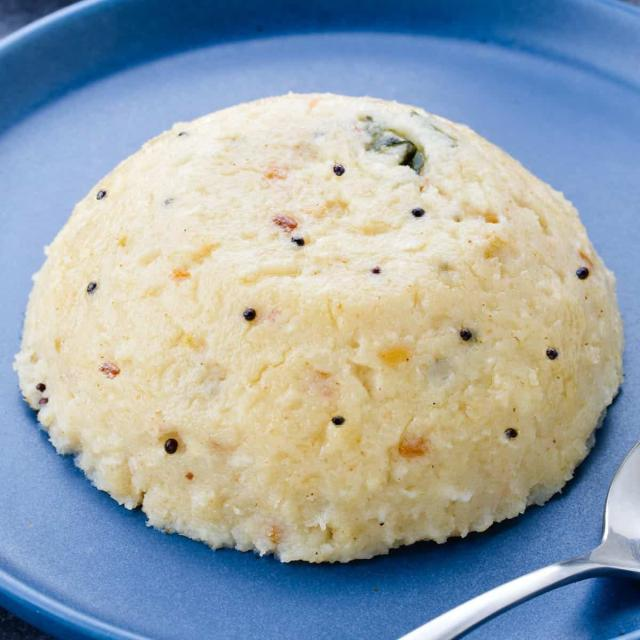upma: (11, 80, 633, 578)
